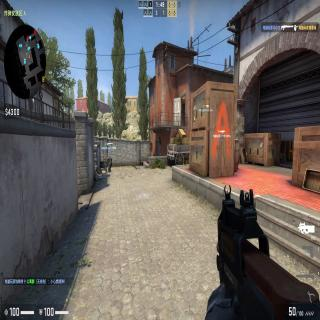CT-Body: (105, 154, 113, 173)
CT-Head: (107, 154, 109, 158)
